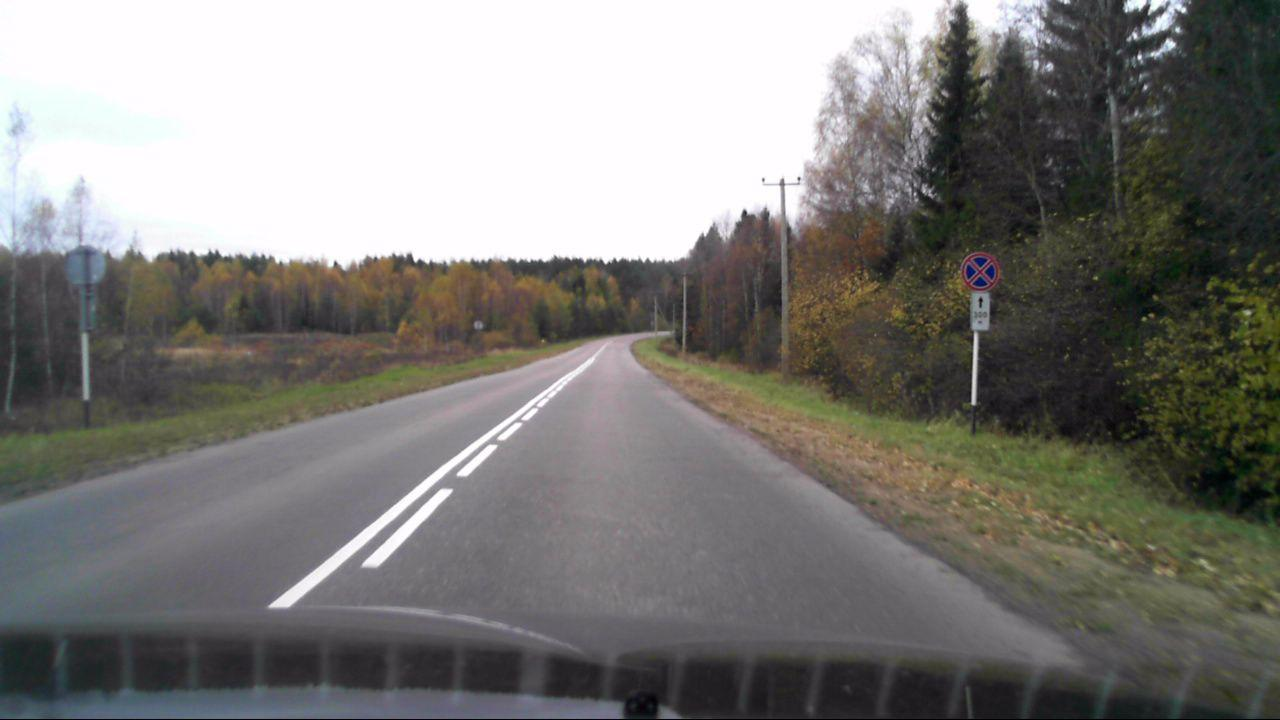3_27: (961, 251, 999, 290)
8_2_2: (970, 292, 990, 331)
